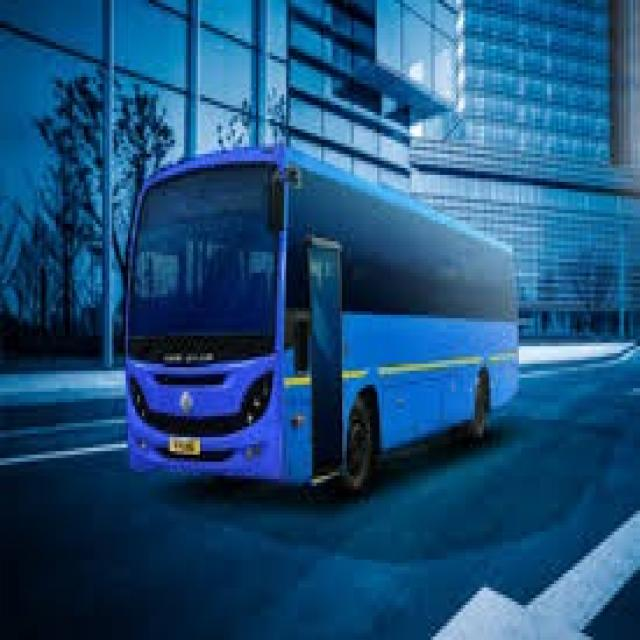bus: (112, 133, 537, 502)
